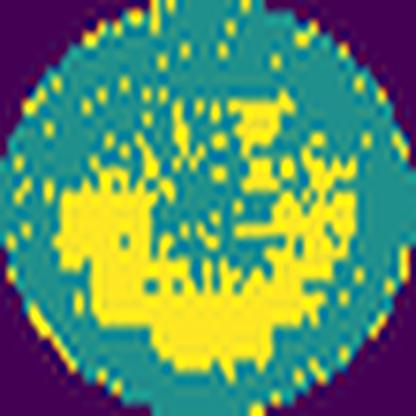Donut: (46, 78, 369, 381)
